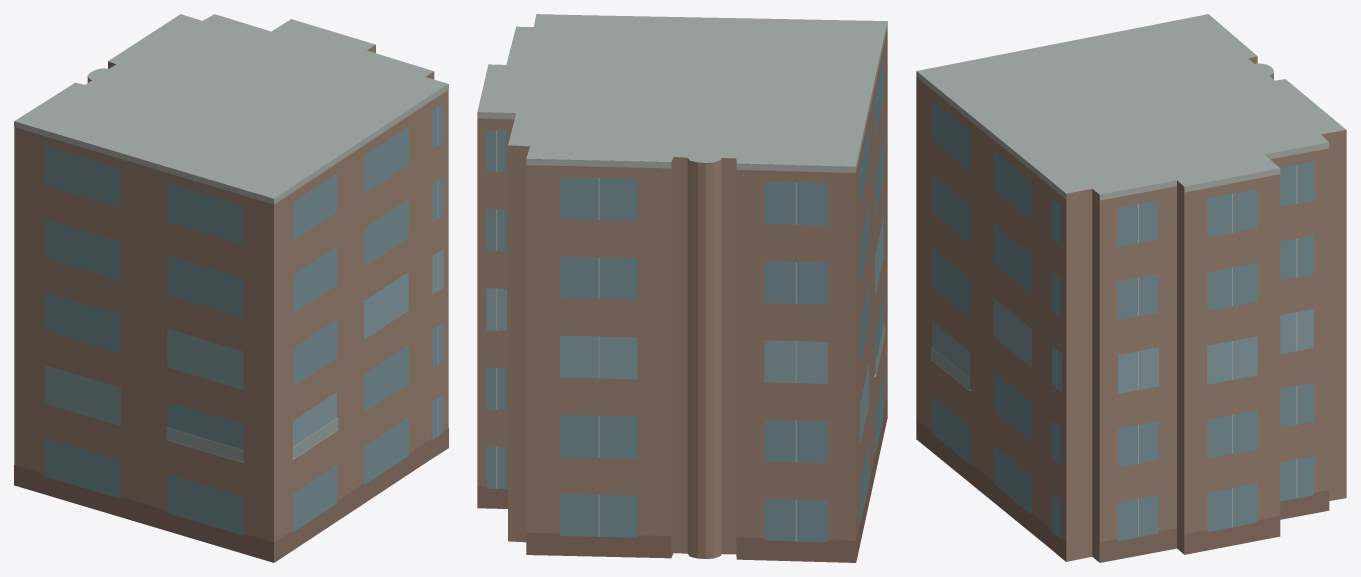
Rendered from survey-upis-32519147.glb.
The picture shows the model from 3 angles, left to right: view 1: azimuth 30°, elevation 25°; view 2: azimuth 150°, elevation 25°; view 3: azimuth 270°, elevation 25°; orthographic projection. The views are drawn at different scales.
Parts seen in each view (by area): view 1: survey-upis-32519147.tmp; view 2: survey-upis-32519147.tmp; view 3: survey-upis-32519147.tmp.
Part boxes in pixels (x1,y1,x2,y2): survey-upis-32519147.tmp: (14,14,448,562); survey-upis-32519147.tmp: (477,14,887,562); survey-upis-32519147.tmp: (916,14,1346,562).
Bounding box in the file's own units: 16.06 × 15.25 × 16.16.
